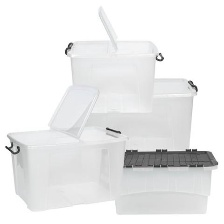plastic_box: (0, 79, 134, 217), (58, 1, 168, 117), (79, 71, 200, 159), (106, 141, 223, 221)
